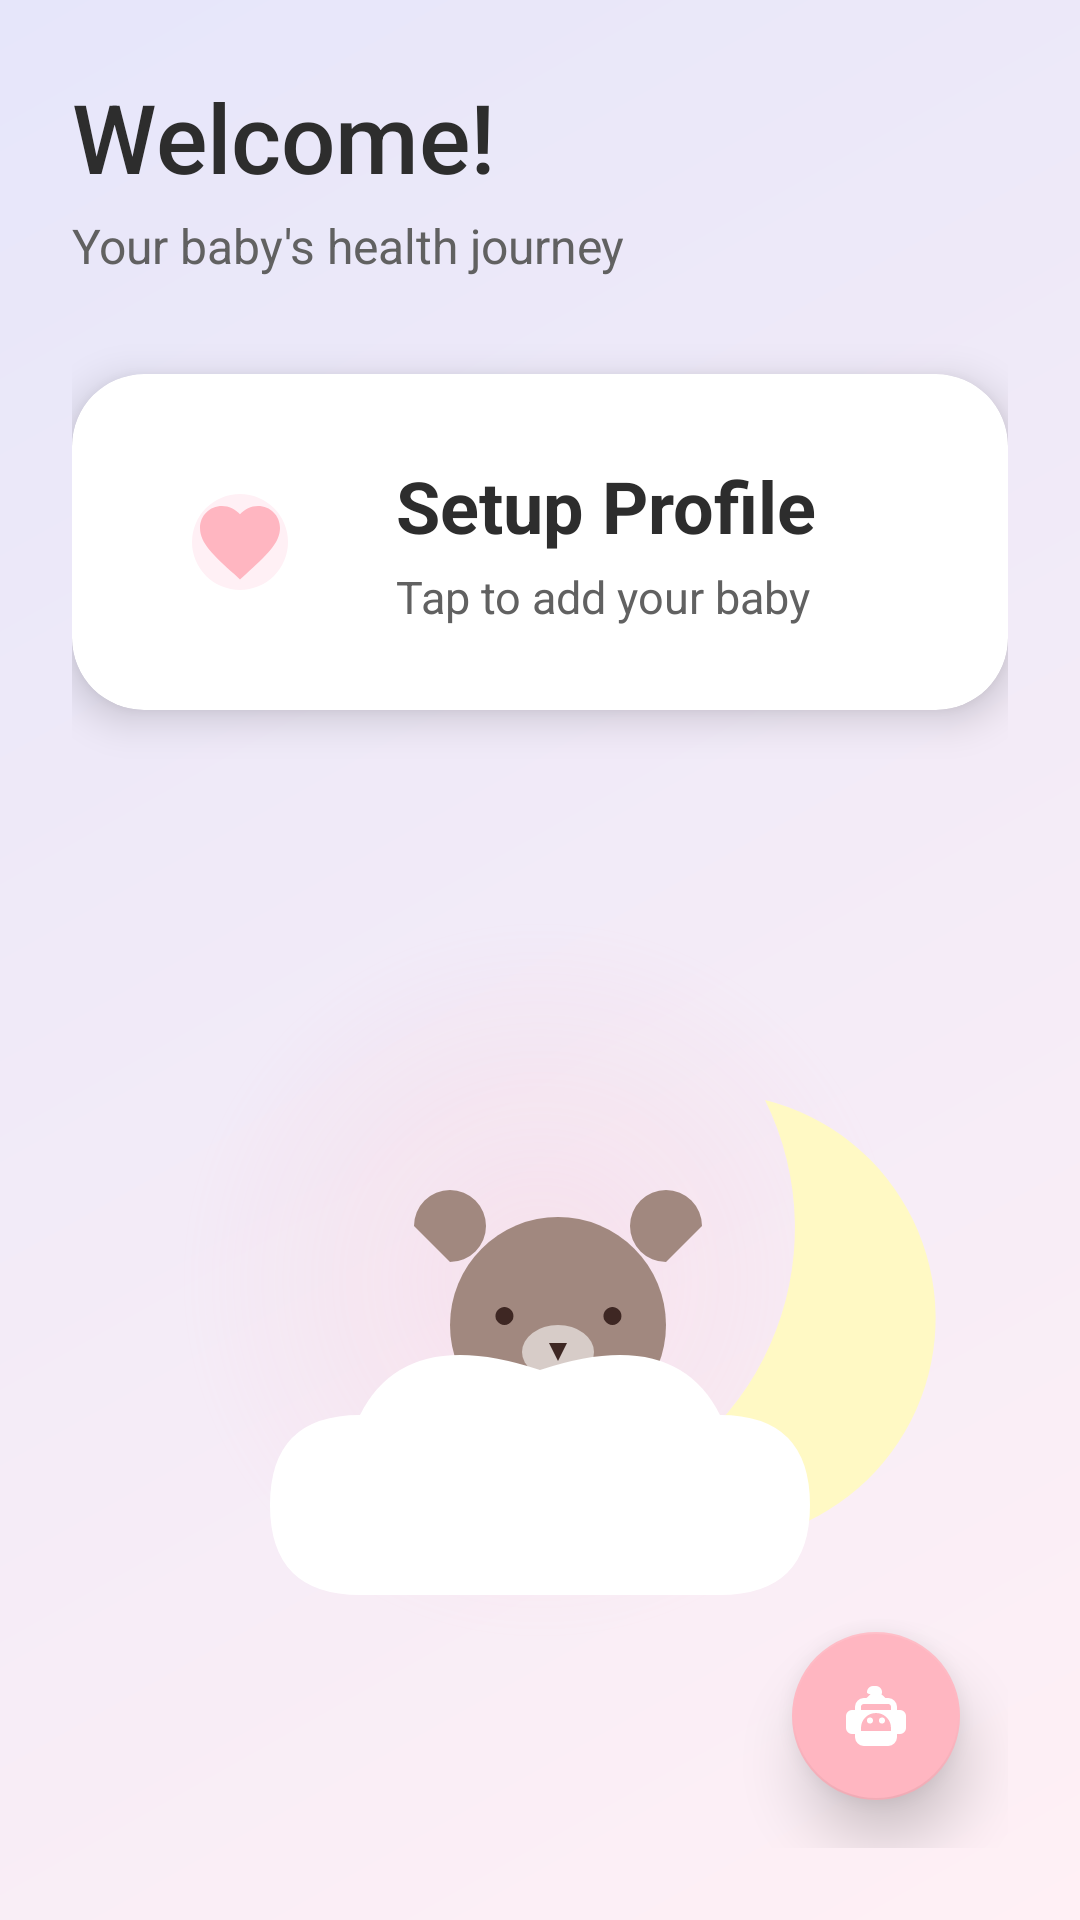

Named icons in this screenshot (1080px×1920px) and their bounding boxes, (x1, y1, x2, y2):
bot: (792, 1632, 960, 1800)
heart: (200, 506, 280, 579)
